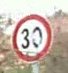limite 30: (11, 12, 54, 62)
